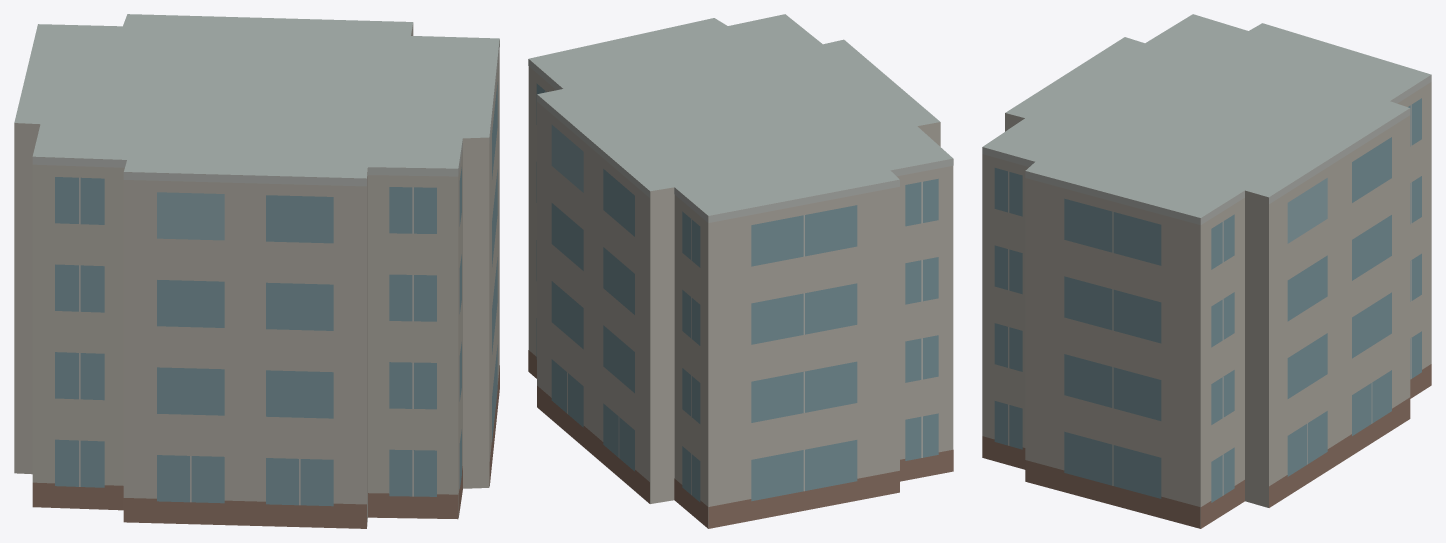
The model's file is survey-upis-32469542.glb.
The picture shows the model from 3 angles, left to right: view 1: azimuth 30°, elevation 25°; view 2: azimuth 150°, elevation 25°; view 3: azimuth 270°, elevation 25°; orthographic projection. The views are drawn at different scales.
Visible parts, largest first — view 1: survey-upis-32469542.tmp; view 2: survey-upis-32469542.tmp; view 3: survey-upis-32469542.tmp.
Boxes of the visible parts, left/top/right/bottom form: survey-upis-32469542.tmp: left=14, top=14, right=499, bottom=528; survey-upis-32469542.tmp: left=528, top=14, right=953, bottom=528; survey-upis-32469542.tmp: left=982, top=14, right=1431, bottom=528.
Bounding box in the file's own units: 15.08 × 10.7 × 14.03.
